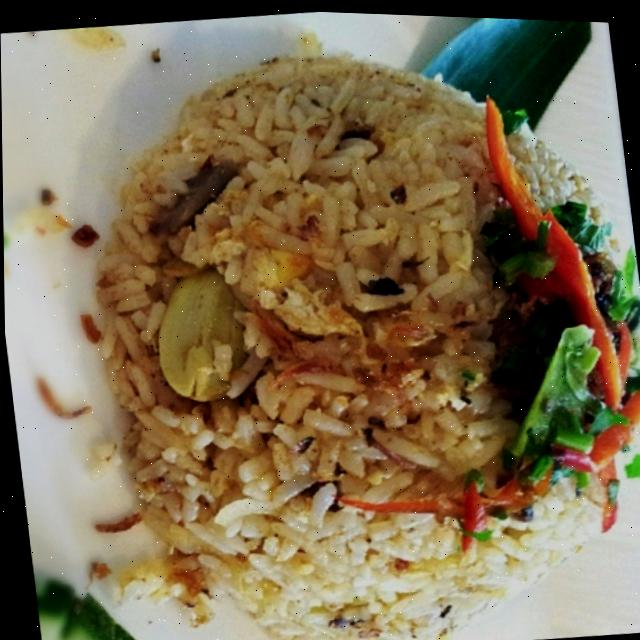米饭主食: (56, 2, 640, 640)
